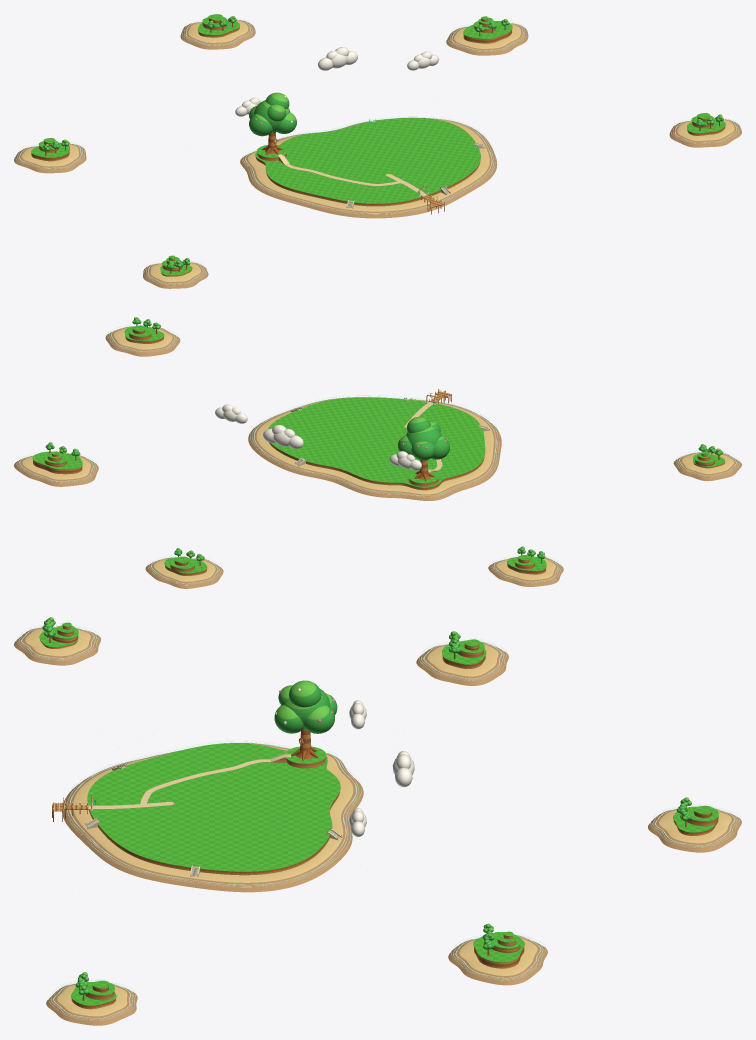
File: kingdom_world.glb
The picture shows the model from 3 angles, top to bottom: view 1: azimuth 30°, elevation 25°; view 2: azimuth 150°, elevation 25°; view 3: azimuth 270°, elevation 25°; orthographic projection. The views are drawn at different scales.
Parts seen in each view (by area): view 1: K_Home_Island, K_Home_Beach, K_Islet_1, K_Great_Tree, K_Islet_2, K_Islet_0, K_Islet_4, K_Islet_3, K_Shore_Foam, K_Cloud_1, K_Path_Spine; view 2: K_Home_Island, K_Home_Beach, K_Islet_1, K_Great_Tree, K_Islet_2, K_Islet_0, K_Islet_4, K_Islet_3, K_Shore_Foam, K_Cloud_1; view 3: K_Home_Island, K_Home_Beach, K_Islet_1, K_Great_Tree, K_Islet_0, K_Islet_2, K_Islet_4, K_Islet_3, K_Shore_Foam, K_Path_Spine, K_Hill_Terrace.
Part boxes in pixels (<box>): K_Home_Island: <box>255,117,480,206</box>; K_Home_Beach: <box>240,118,497,218</box>; K_Islet_1: <box>446,21,528,55</box>; K_Great_Tree: <box>249,92,297,154</box>; K_Islet_2: <box>180,17,255,49</box>; K_Islet_0: <box>14,141,86,173</box>; K_Islet_4: <box>669,116,741,147</box>; K_Islet_3: <box>143,259,208,288</box>; K_Shore_Foam: <box>241,116,495,214</box>; K_Cloud_1: <box>318,47,357,70</box>; K_Path_Spine: <box>285,163,426,196</box>; K_Home_Island: <box>268,397,485,490</box>; K_Home_Beach: <box>248,397,501,500</box>; K_Islet_1: <box>14,451,98,486</box>; K_Great_Tree: <box>398,417,449,481</box>; K_Islet_2: <box>145,556,223,588</box>; K_Islet_0: <box>488,555,563,586</box>; K_Islet_4: <box>105,324,180,356</box>; K_Islet_3: <box>673,451,741,481</box>; K_Shore_Foam: <box>250,395,499,497</box>; K_Cloud_1: <box>263,425,303,448</box>; K_Home_Island: <box>87,743,340,875</box>; K_Home_Beach: <box>62,743,363,892</box>; K_Islet_1: <box>448,932,547,985</box>; K_Great_Tree: <box>274,680,337,761</box>; K_Islet_0: <box>416,638,508,685</box>; K_Islet_2: <box>648,804,741,852</box>; K_Islet_4: <box>46,979,137,1025</box>; K_Islet_3: <box>14,623,100,665</box>; K_Shore_Foam: <box>64,740,361,887</box>; K_Path_Spine: <box>88,759,270,809</box>; K_Hill_Terrace: <box>270,746,326,768</box>.
Size of what is drawn, in the model's own units: 310 by 33 by 239.
Materials: 33 (4 with a texture image).
